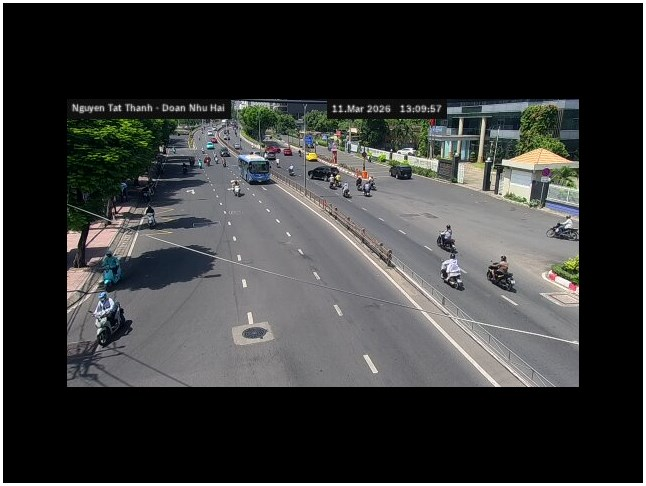car: (390, 165, 412, 179)
motorbike: (93, 292, 132, 347), (441, 257, 466, 291), (487, 264, 516, 292), (359, 179, 374, 195)
